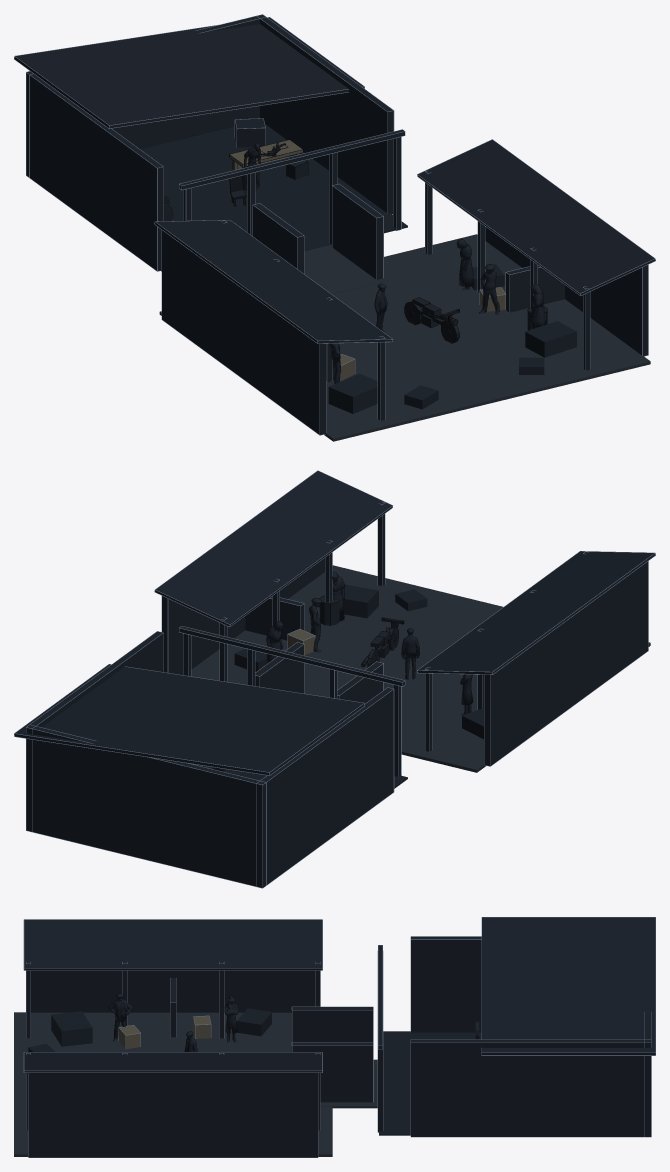
Rendered from 修理棚.fbx.
3 renders of one model, top to bottom at view 1: azimuth 30°, elevation 25°; view 2: azimuth 150°, elevation 25°; view 3: azimuth 270°, elevation 25°, orthographic. The views are drawn at different scales.
Parts seen in each view (by area): view 1: 堆场地面, 棚_屋顶, 屋檐顶_右, 屋檐墙_左, 棚_左墙, 棚_地面, 屋檐顶_左, 棚_右墙, 描线_focus_修理棚_暗, 屋檐墙_右, 过道隔墙_右, 棚_后墙 (+12 smaller); view 2: 棚_后墙, 棚_屋顶, 堆场地面, 屋檐顶_右, 屋檐墙_左, 棚_左墙, 屋檐顶_左, 描线_focus_修理棚_暗, 屋檐墙_右, 棚_右墙, 棚_口梁, 屋檐矮墙_右 (+6 smaller); view 3: 屋檐墙_右, 棚_屋顶, 棚_右墙, 屋檐顶_左, 屋檐墙_左, 堆场地面, 棚_左墙, 描线_focus_修理棚_暗, 屋檐顶_右, 棚_地面, 过道隔墙_右, 过道隔墙_左 (+10 smaller).
Boxes of the visible parts, x1,y1,x2,y2 form: 堆场地面: (159, 234, 650, 441); 棚_屋顶: (14, 17, 364, 128); 屋檐顶_右: (417, 139, 655, 295); 屋檐墙_左: (162, 230, 325, 434); 棚_左墙: (26, 71, 163, 270); 棚_地面: (140, 124, 407, 271); 屋檐顶_左: (155, 220, 392, 343); 棚_右墙: (257, 14, 393, 213); 描线_focus_修理棚_暗: (14, 14, 655, 435); 屋檐墙_右: (485, 227, 648, 355); 过道隔墙_右: (332, 184, 383, 279); 棚_后墙: (27, 15, 264, 149); 棚_后墙: (26, 725, 265, 887); 棚_屋顶: (14, 664, 364, 775); 堆场地面: (191, 565, 650, 772); 屋檐顶_右: (155, 471, 392, 626); 屋檐墙_左: (484, 561, 648, 765); 棚_左墙: (257, 688, 393, 887); 屋檐顶_左: (417, 551, 655, 674); 描线_focus_修理棚_暗: (14, 470, 655, 888); 屋檐墙_右: (162, 558, 324, 674); 棚_右墙: (29, 631, 163, 728); 棚_口梁: (179, 626, 404, 686); 屋檐矮墙_右: (245, 596, 304, 640); 屋檐墙_右: (28, 1073, 317, 1157); 棚_屋顶: (482, 917, 655, 1055); 棚_右墙: (411, 1039, 651, 1136); 屋檐顶_左: (24, 919, 322, 970); 屋檐墙_左: (31, 970, 315, 1012); 堆场地面: (14, 1012, 332, 1156); 棚_左墙: (411, 936, 481, 1032); 描线_focus_修理棚_暗: (23, 917, 655, 1157); 屋檐顶_右: (24, 1052, 322, 1072); 棚_地面: (379, 1031, 481, 1135); 过道隔墙_右: (292, 1042, 372, 1102); 过道隔墙_左: (292, 1007, 372, 1042).
Bounding box in the file's own units: 1238 × 426 × 2216.
